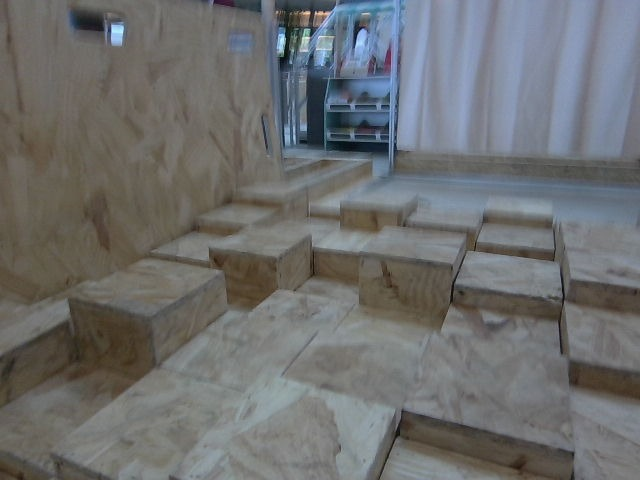curtain: (394, 0, 640, 161)
